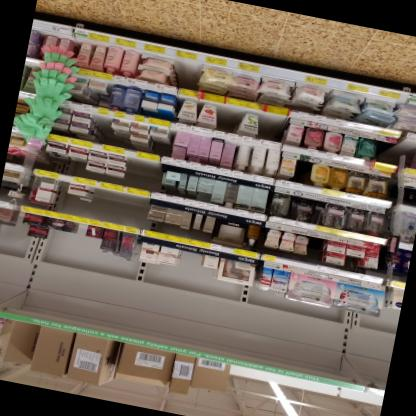empty_space: (89, 189, 148, 228), (123, 157, 162, 190), (389, 136, 413, 167), (258, 112, 282, 142), (177, 61, 200, 89), (177, 251, 202, 276), (215, 106, 238, 133), (92, 115, 114, 137), (307, 237, 322, 261), (76, 224, 86, 235)
